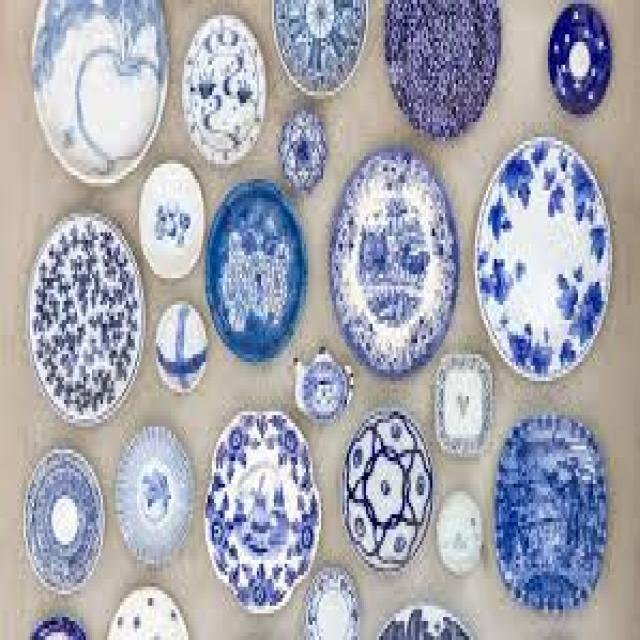Plate: (474, 129, 624, 390), (331, 147, 456, 383), (26, 201, 149, 432), (498, 406, 612, 608), (210, 404, 320, 612), (201, 172, 308, 365), (19, 444, 109, 600)
